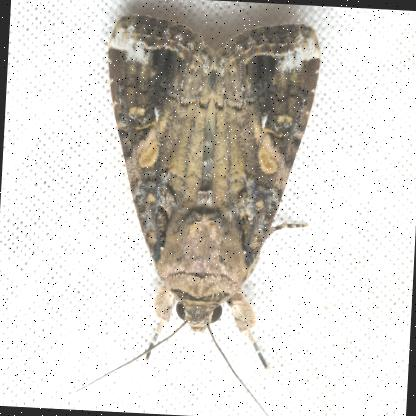Fall Armyworm Moth: (60, 7, 331, 416)
